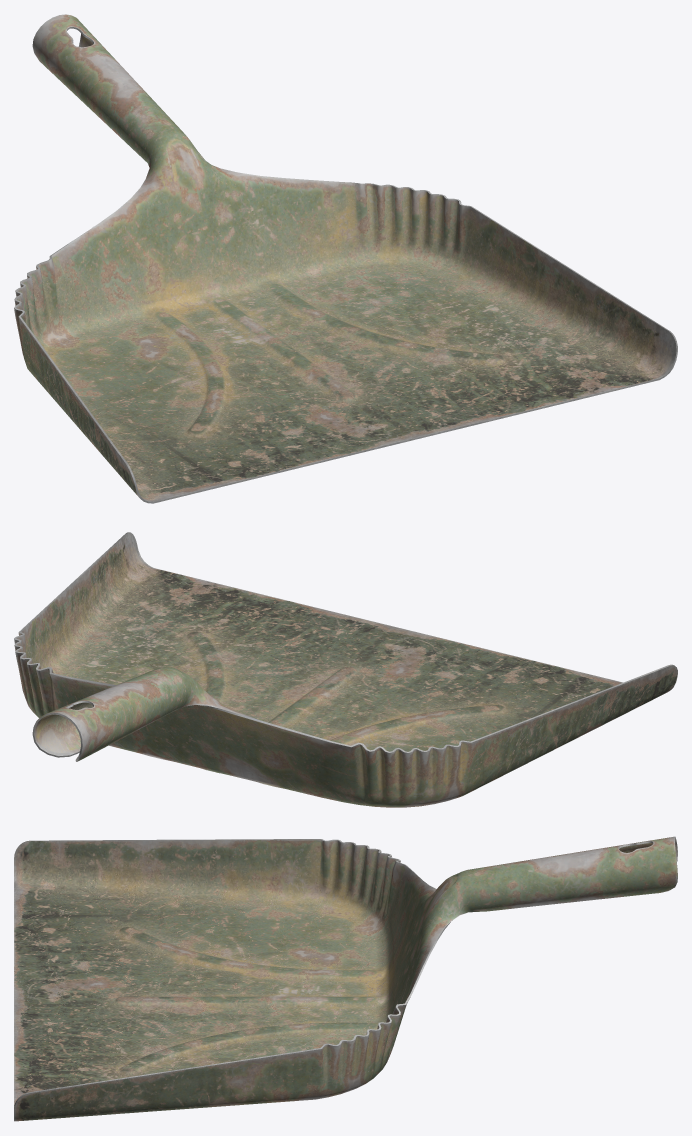
The model's file is dustpan.gltf.
3 renders of one model, top to bottom at view 1: azimuth 30°, elevation 25°; view 2: azimuth 150°, elevation 25°; view 3: azimuth 270°, elevation 25°, orthographic. The views are drawn at different scales.
Visible parts, largest first — view 1: dustpan; view 2: dustpan; view 3: dustpan.
Boxes of the visible parts, x1,y1,x2,y2 form: dustpan: (14,14,677,503); dustpan: (14,532,677,807); dustpan: (14,836,677,1121).
Bounding box in the file's own units: 0.3321 × 0.1003 × 0.368.
Materials: 1 (1 with a texture image).
